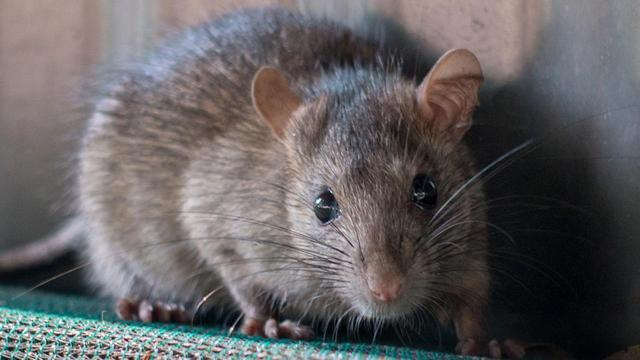rat: (66, 1, 540, 359)
